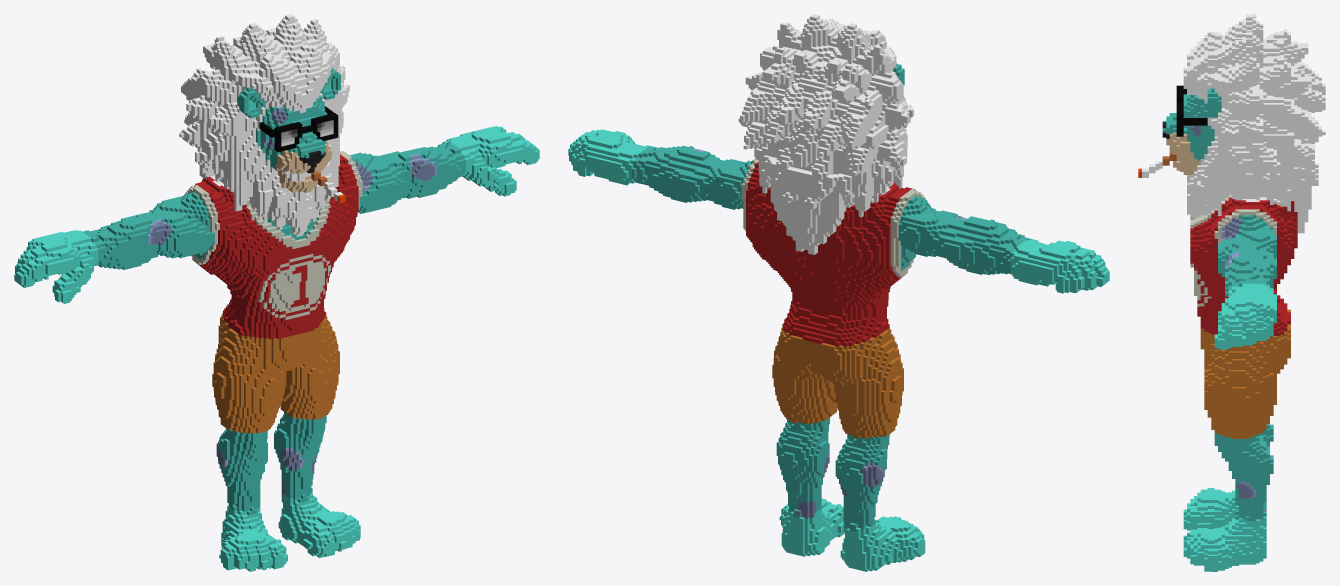
File: 324-C6uczOaJ.glb
The picture shows the model from 3 angles, left to right: view 1: azimuth 30°, elevation 25°; view 2: azimuth 150°, elevation 25°; view 3: azimuth 270°, elevation 25°; orthographic projection. The views are drawn at different scales.
Visible parts, largest first — view 1: cigarette; view 2: cigarette; view 3: cigarette.
Part boxes in pixels (<box>): cigarette: <box>14,14,539,571</box>; cigarette: <box>568,14,1109,571</box>; cigarette: <box>1138,14,1325,571</box>.
Bounding box in the file's own units: 17.2 × 16.5 × 5.4.
5 materials, 5 textured.
